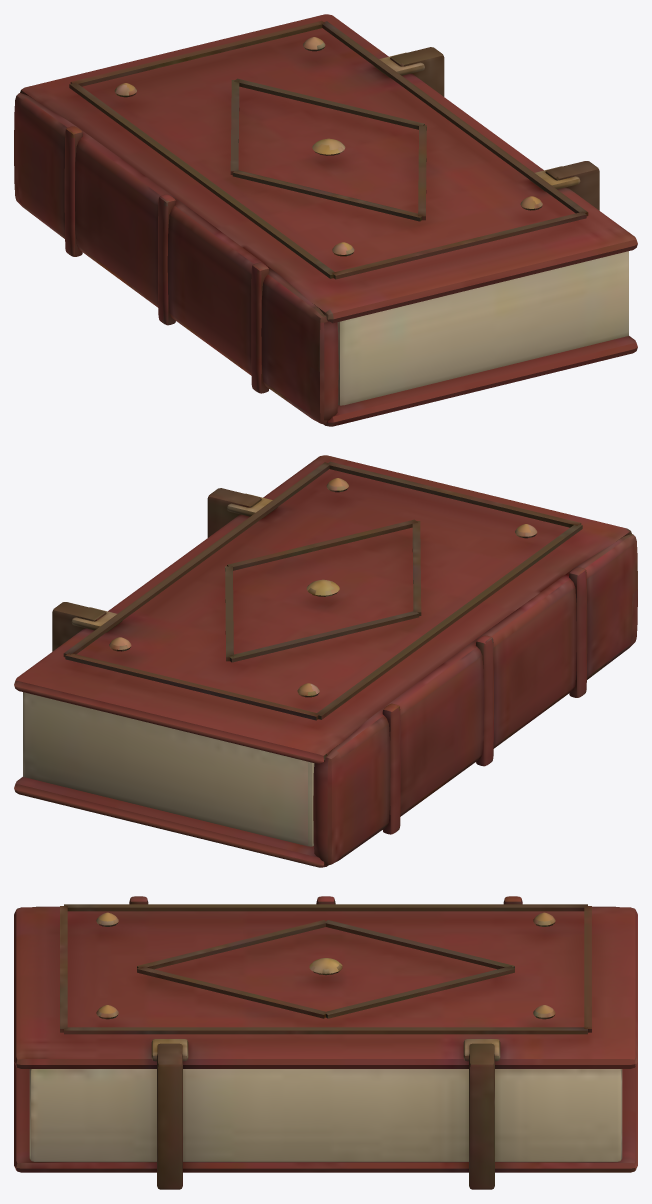
File: dioscorides.glb
3 renders of one model, top to bottom at view 1: azimuth 30°, elevation 25°; view 2: azimuth 150°, elevation 25°; view 3: azimuth 270°, elevation 25°, orthographic.
Parts seen in each view (by area): view 1: dioscorides; view 2: dioscorides; view 3: dioscorides.
Boxes of the visible parts, left/top/right/bottom form: dioscorides: left=14, top=14, right=637, bottom=426; dioscorides: left=14, top=455, right=637, bottom=867; dioscorides: left=14, top=896, right=637, bottom=1189.
Bounding box in the file's own units: 0.159 × 0.0614 × 0.24.
1 material, 1 textured.
